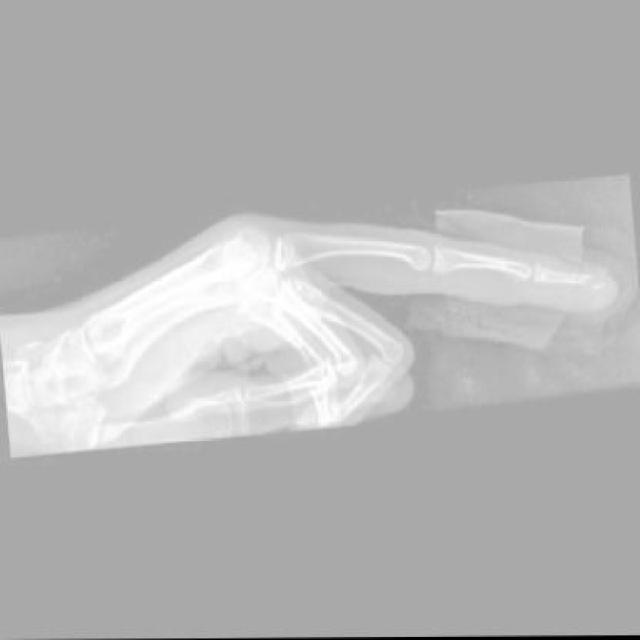Fracture: (583, 274, 608, 296)
